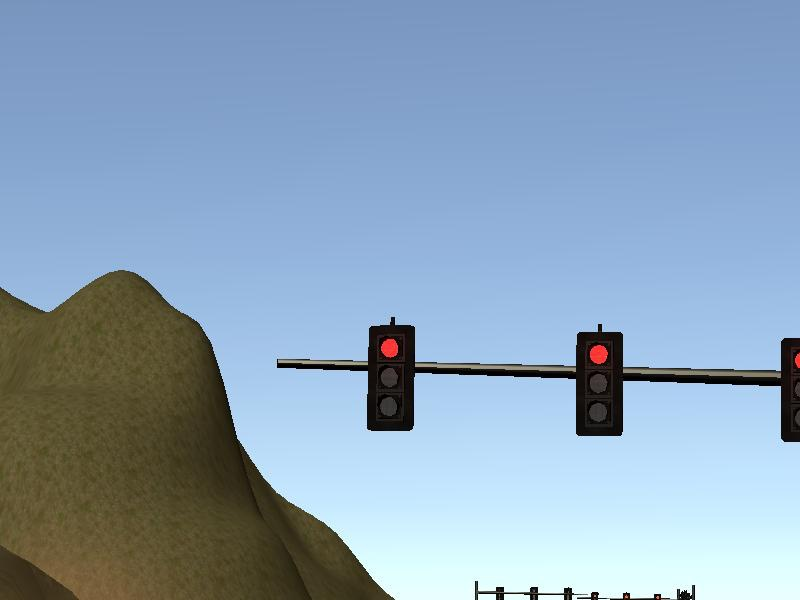red_light: (371, 327, 414, 430), (580, 333, 620, 433)
